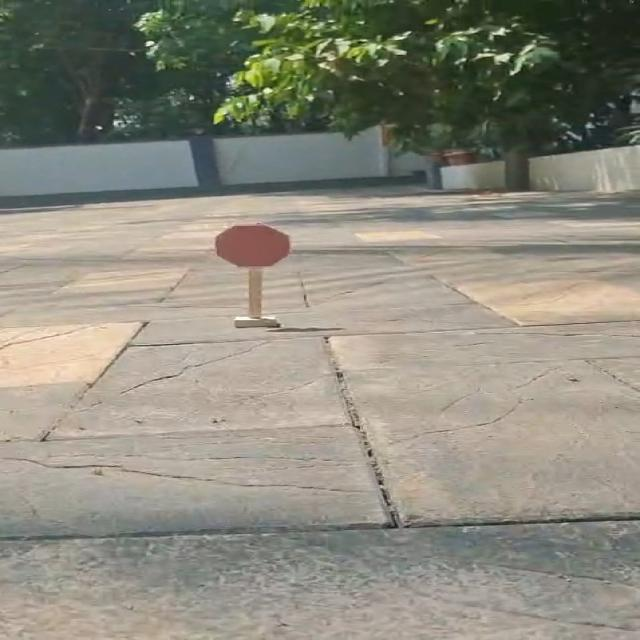Stop: (207, 215, 305, 273)
